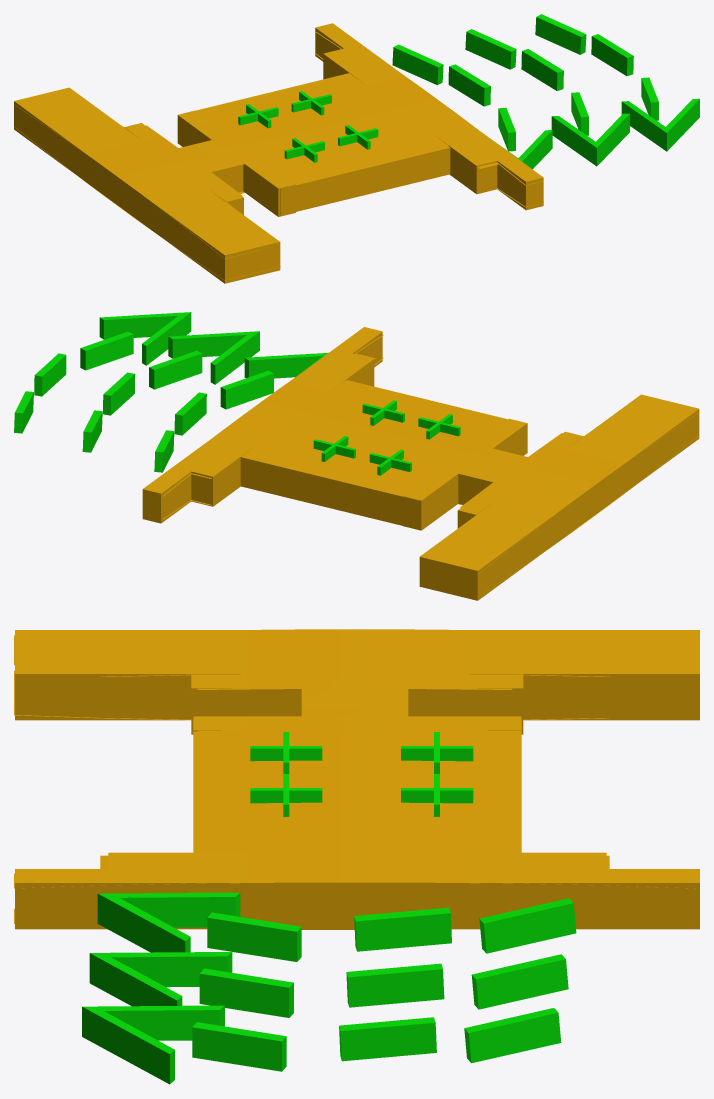
File: dashCupObj.fbx
The picture shows the model from 3 angles, top to bottom: view 1: azimuth 30°, elevation 25°; view 2: azimuth 150°, elevation 25°; view 3: azimuth 270°, elevation 25°; orthographic projection. The views are drawn at different scales.
Parts seen in each view (by area): view 1: dashCupObj; view 2: dashCupObj; view 3: dashCupObj.
Boxes of the visible parts, <box> form: dashCupObj: <box>14,14,699,283</box>; dashCupObj: <box>14,312,699,600</box>; dashCupObj: <box>14,629,699,1084</box>.
Bounding box in the file's own units: 2.53 × 0.1695 × 1.77.
